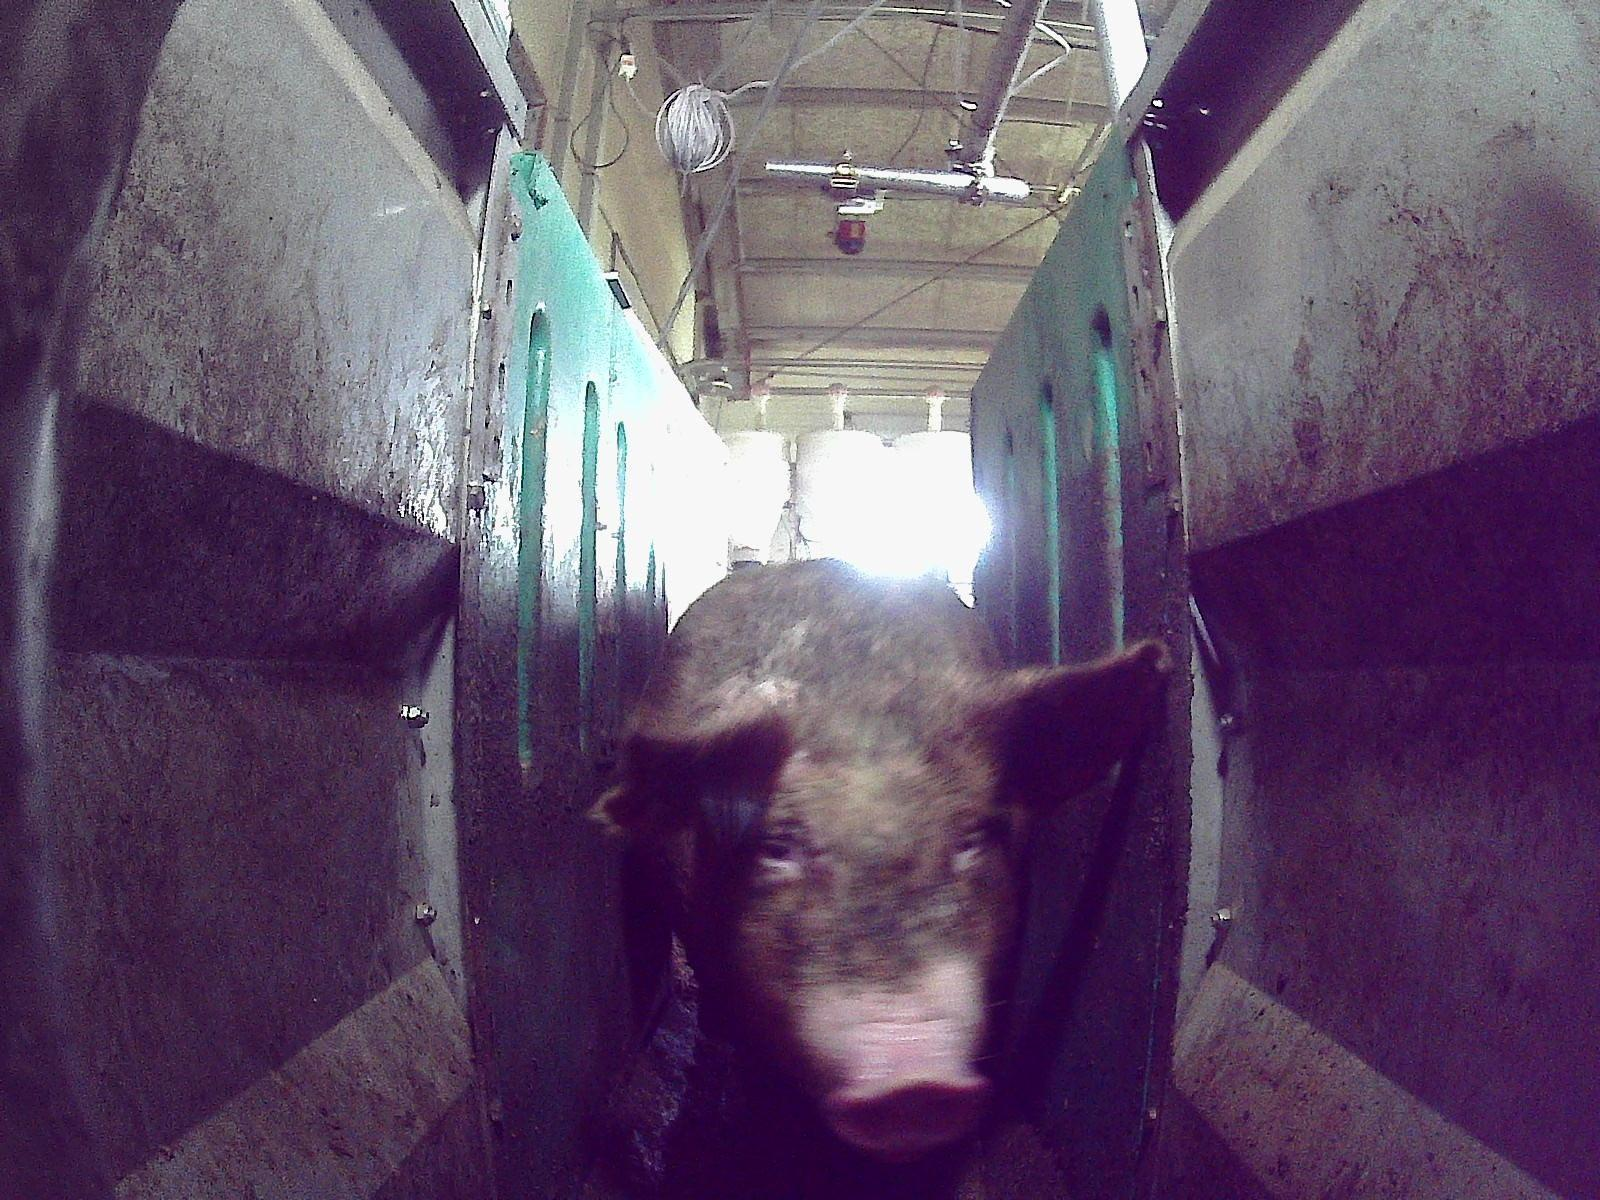Face: (709, 713, 1013, 1156)
